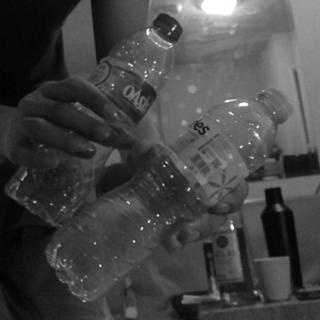plastic_bottles: (57, 77, 294, 298), (7, 6, 177, 206)
